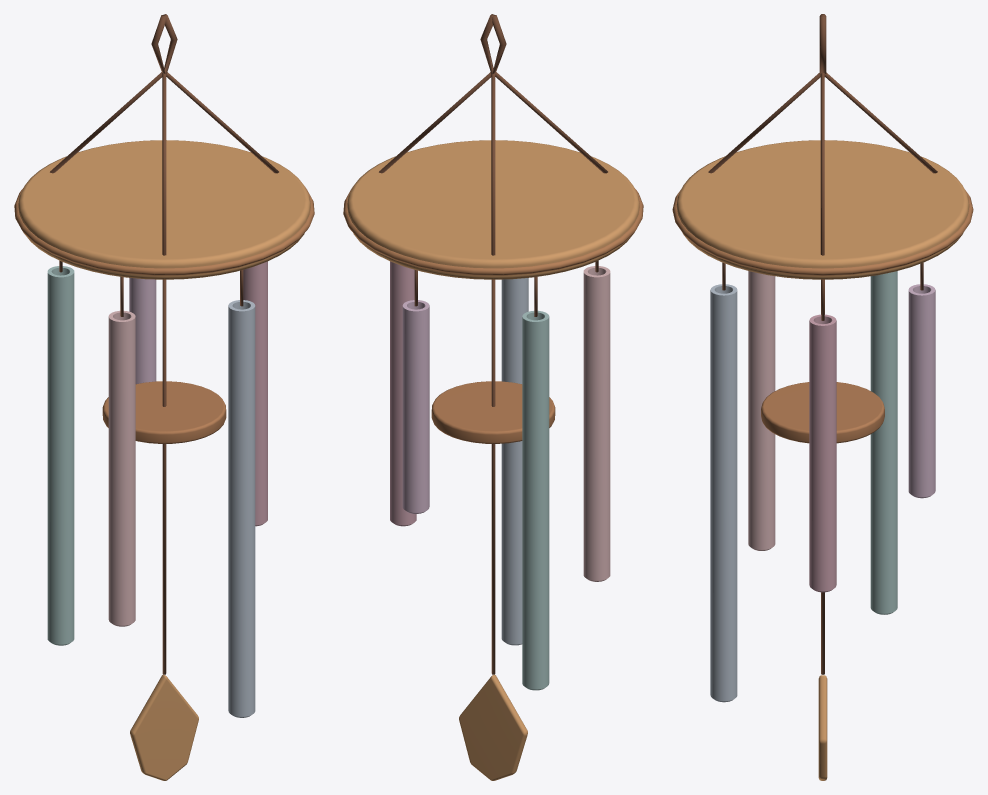
Rendered from wind_chime.glb.
The picture shows the model from 3 angles, left to right: view 1: azimuth 30°, elevation 25°; view 2: azimuth 150°, elevation 25°; view 3: azimuth 270°, elevation 25°; orthographic projection.
Visible parts, largest first — view 1: top, tube4, clapper, tube2, tube3, tube0, tube1; view 2: top, clapper, tube2, tube3, tube4, tube1, tube0; view 3: top, tube4, tube2, tube0, tube3, clapper, tube1.
Part boxes in pixels (x1=…): top: x1=14, y1=14, x2=314, y2=279; tube4: x1=228, y1=270, x2=255, y2=717; clapper: x1=102, y1=279, x2=226, y2=780; tube2: x1=47, y1=260, x2=74, y2=645; tube3: x1=108, y1=276, x2=135, y2=626; tube0: x1=243, y1=261, x2=267, y2=526; tube1: x1=129, y1=278, x2=156, y2=383; top: x1=343, y1=14, x2=643, y2=279; clapper: x1=431, y1=279, x2=555, y2=780; tube2: x1=522, y1=276, x2=549, y2=690; tube3: x1=583, y1=260, x2=610, y2=581; tube4: x1=501, y1=278, x2=528, y2=645; tube1: x1=402, y1=270, x2=429, y2=513; tube0: x1=390, y1=261, x2=416, y2=526; top: x1=672, y1=14, x2=973, y2=279; tube4: x1=710, y1=262, x2=737, y2=702; tube2: x1=870, y1=271, x2=897, y2=614; tube0: x1=809, y1=279, x2=836, y2=592; tube3: x1=748, y1=271, x2=775, y2=550; clapper: x1=761, y1=280, x2=884, y2=780; tube1: x1=908, y1=262, x2=935, y2=498.
Size of the model in its own units: 0.107 by 0.3001 by 0.107.
